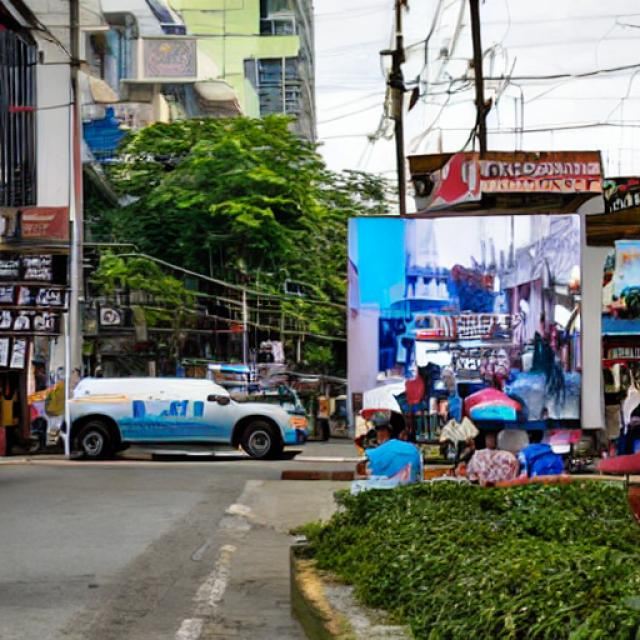Billboard: (344, 213, 584, 425)
